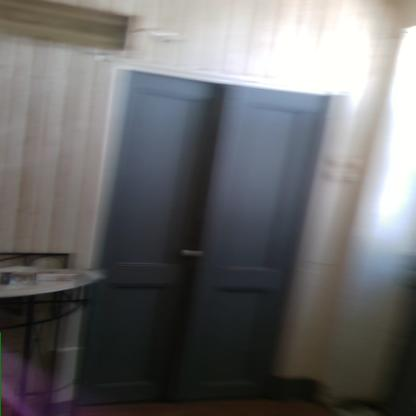closed: (80, 56, 352, 416)
